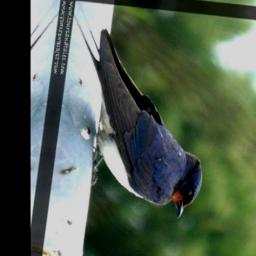Swallow: (42, 3, 224, 222)
